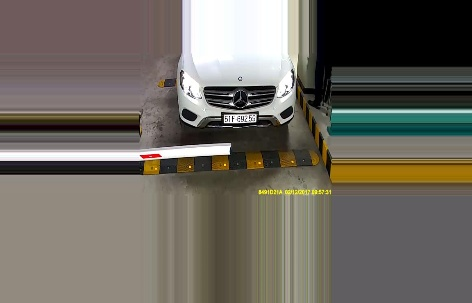plate: (222, 112, 259, 124)
